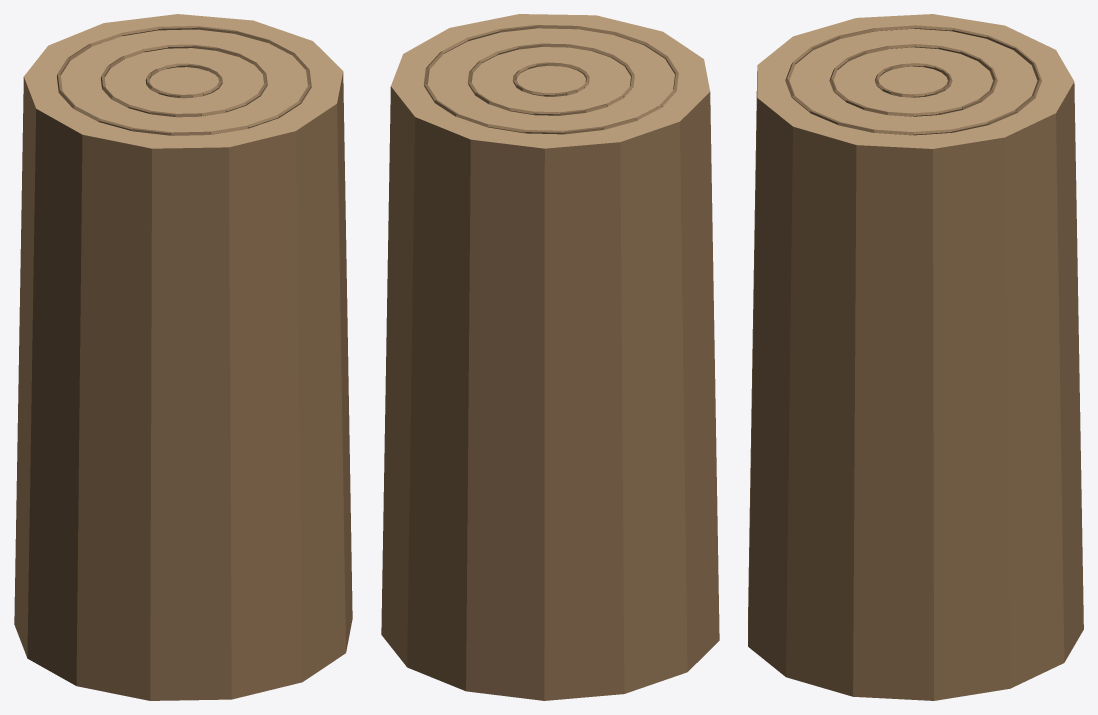
The model's file is fixture_chop.glb.
The picture shows the model from 3 angles, left to right: view 1: azimuth 30°, elevation 25°; view 2: azimuth 150°, elevation 25°; view 3: azimuth 270°, elevation 25°; orthographic projection.
Parts seen in each view (by area): view 1: Action setting; view 2: Action setting; view 3: Action setting.
Part boxes in pixels (x1,y1,x2,y2): Action setting: [14, 14, 352, 700]; Action setting: [381, 14, 719, 700]; Action setting: [748, 14, 1083, 700].
Bounding box in the file's own units: 0.3077 × 0.5528 × 0.3055.
